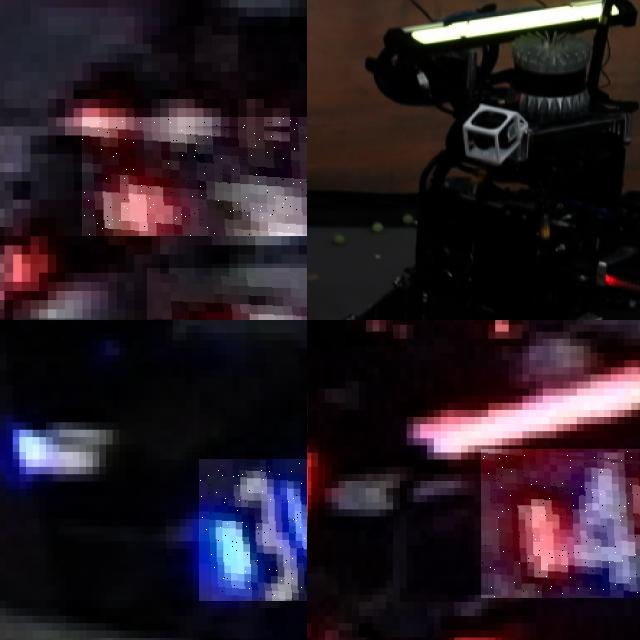B3: (199, 459, 307, 600)
R3: (82, 117, 307, 236), (147, 268, 307, 320)
R4: (481, 448, 640, 598)
